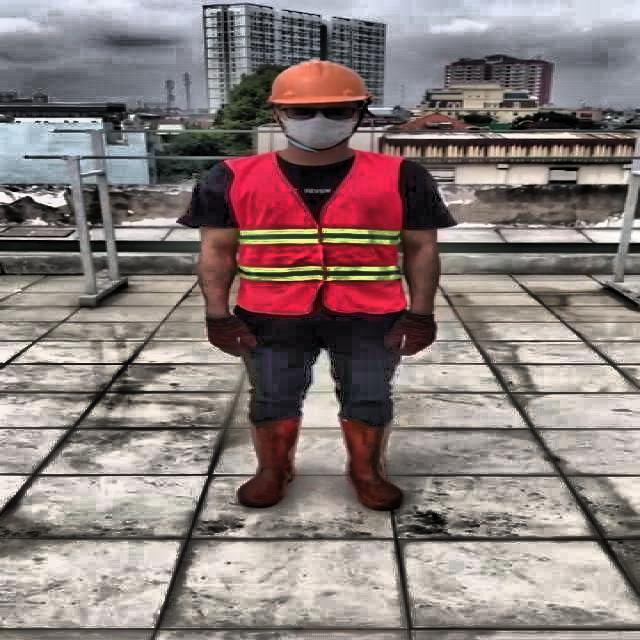safety_helmet: (258, 62, 376, 105)
safety_jacket: (222, 150, 414, 315)
